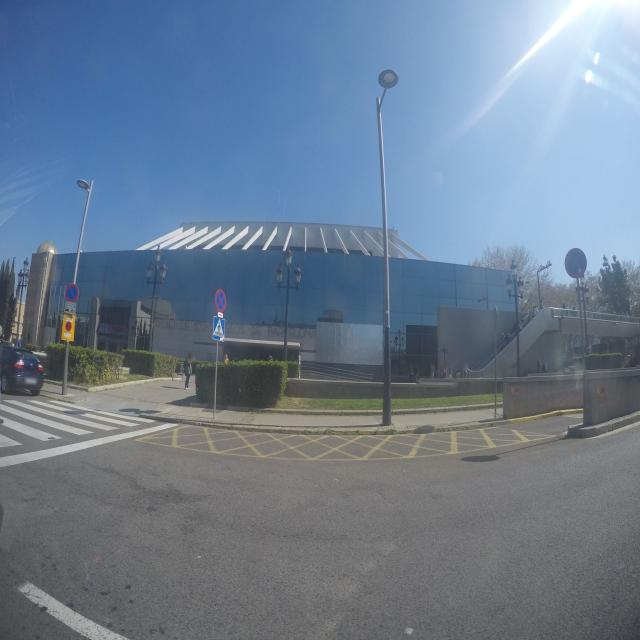forb_stopping: (65, 283, 80, 302)
forb_waiting: (565, 248, 588, 279), (215, 289, 227, 313), (65, 321, 72, 331)
